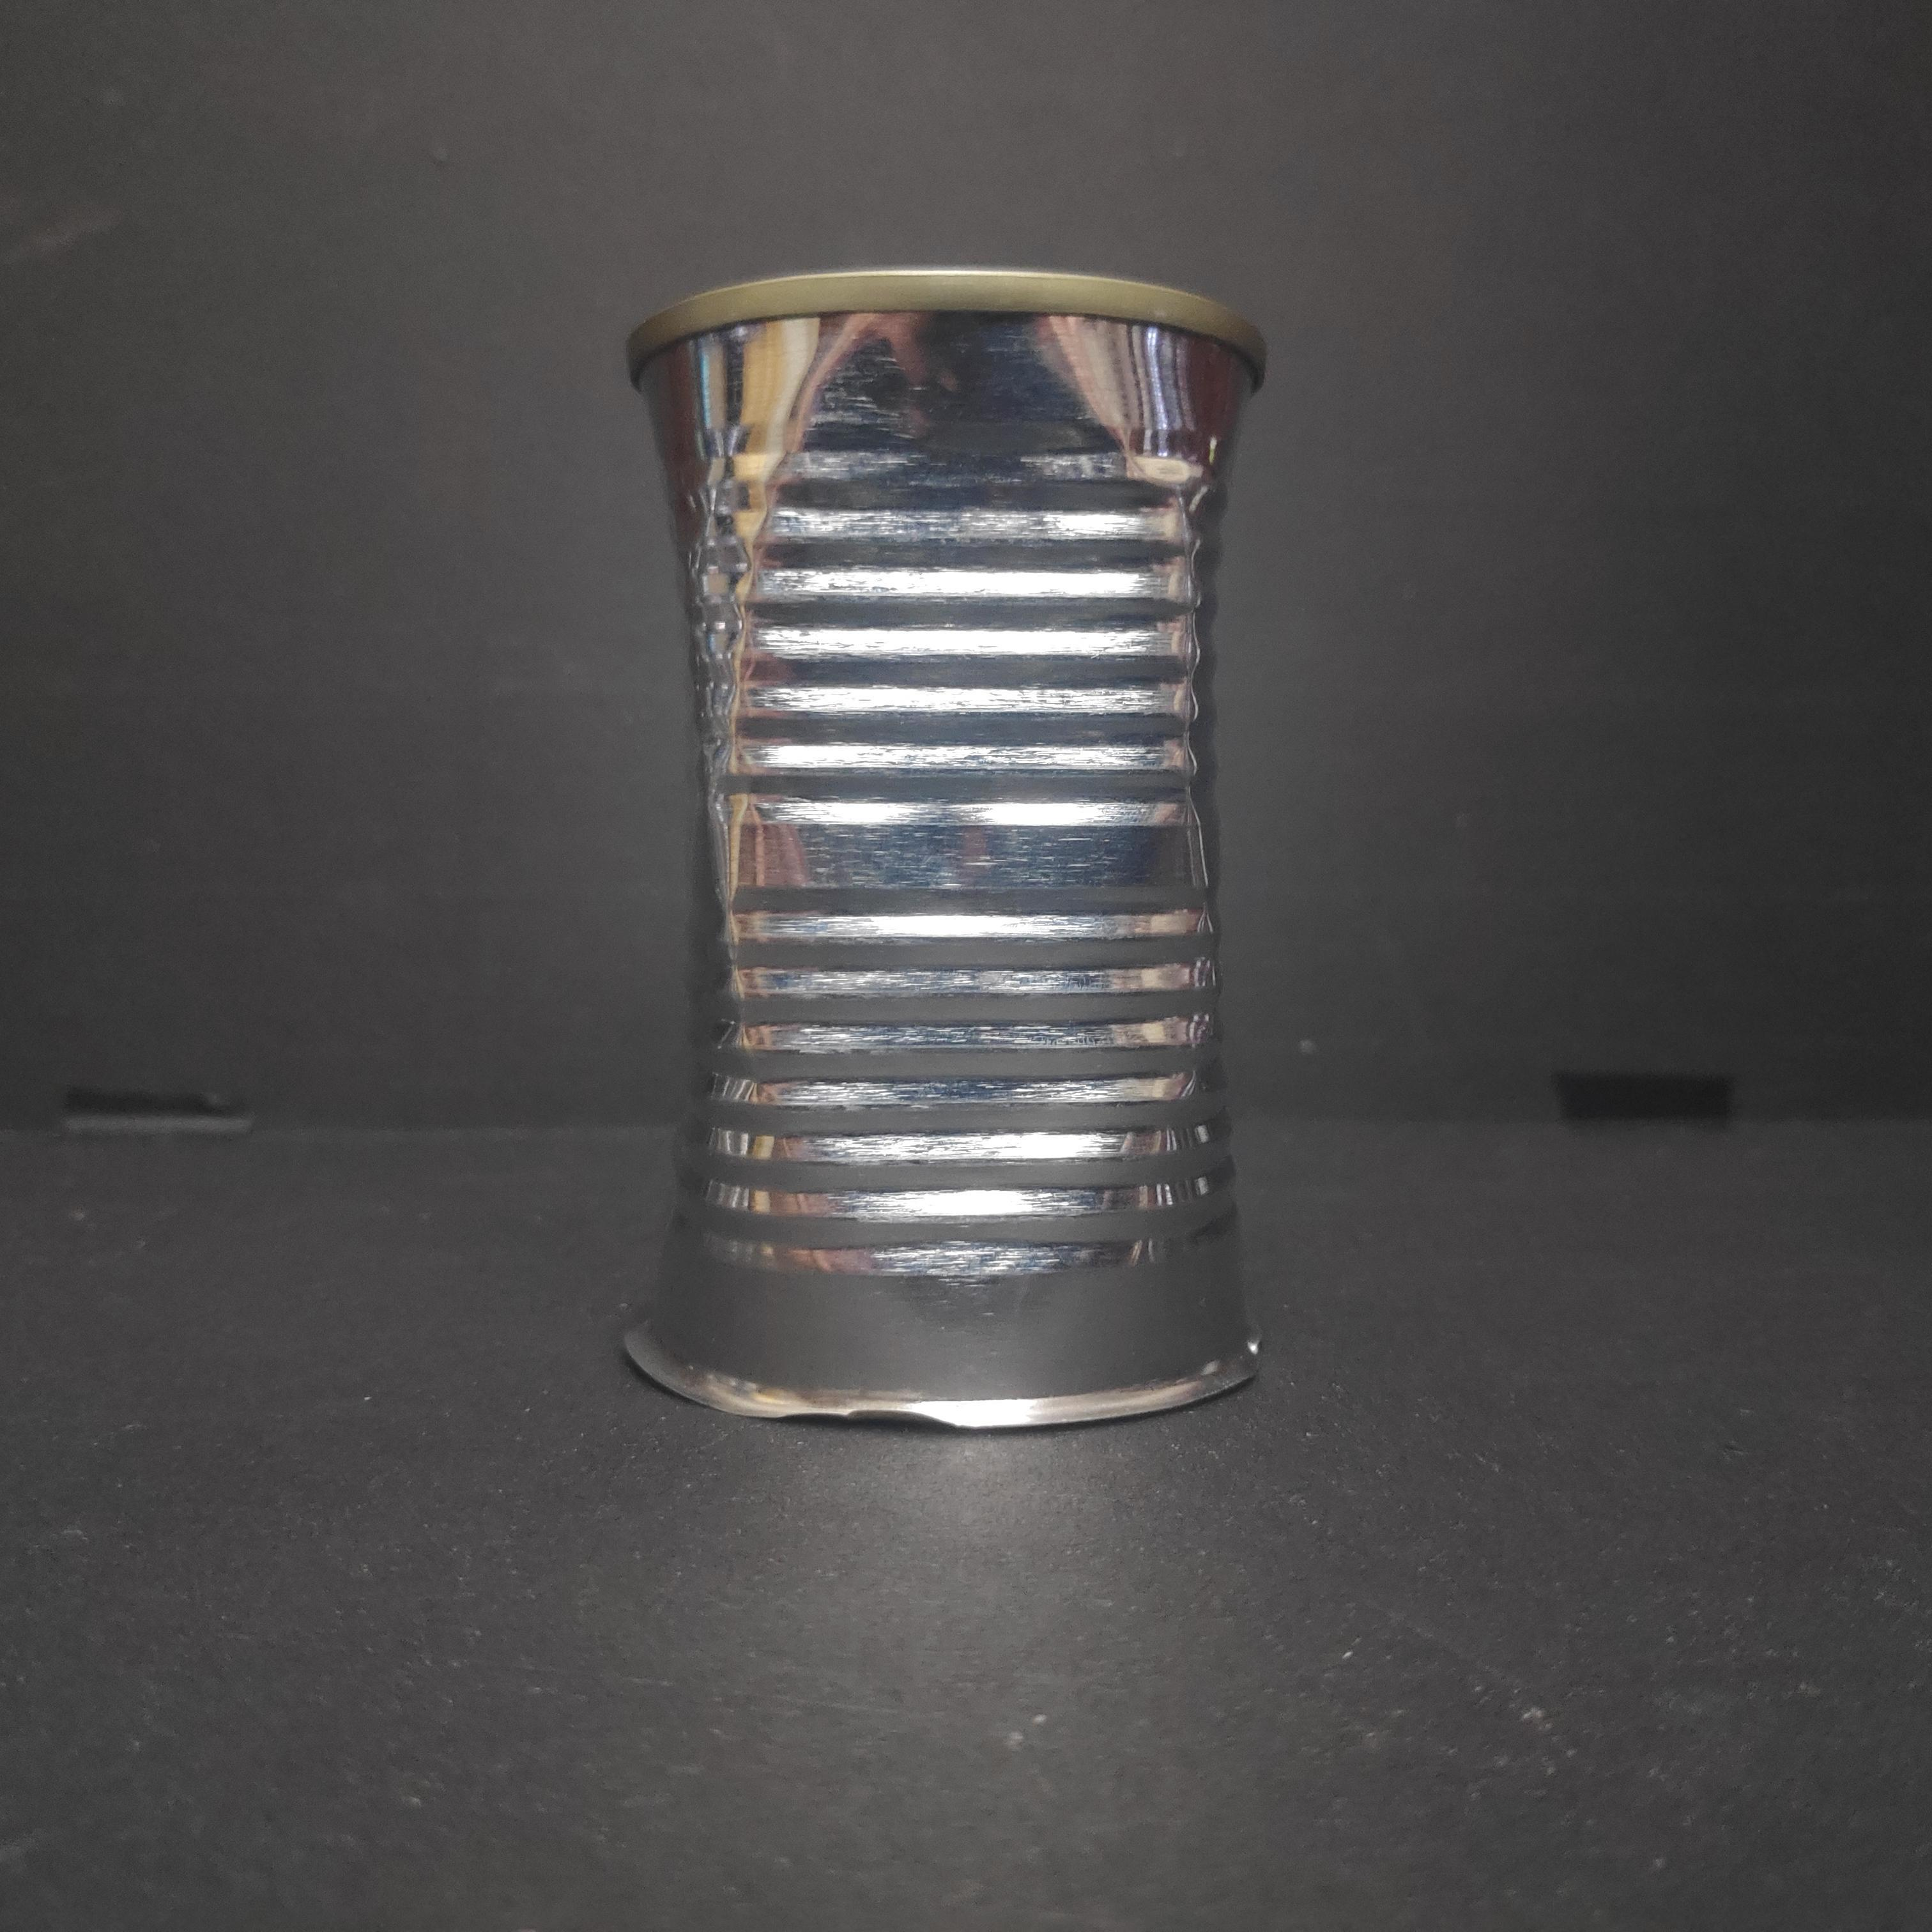Dented: (597, 224, 1303, 1476)
